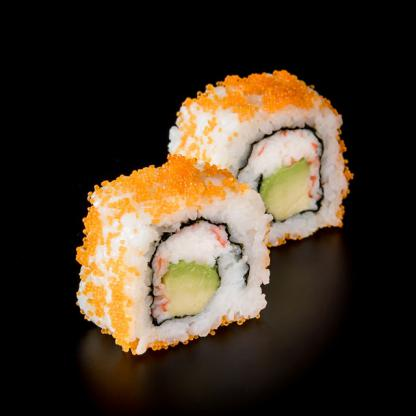masago: (63, 150, 281, 362)
